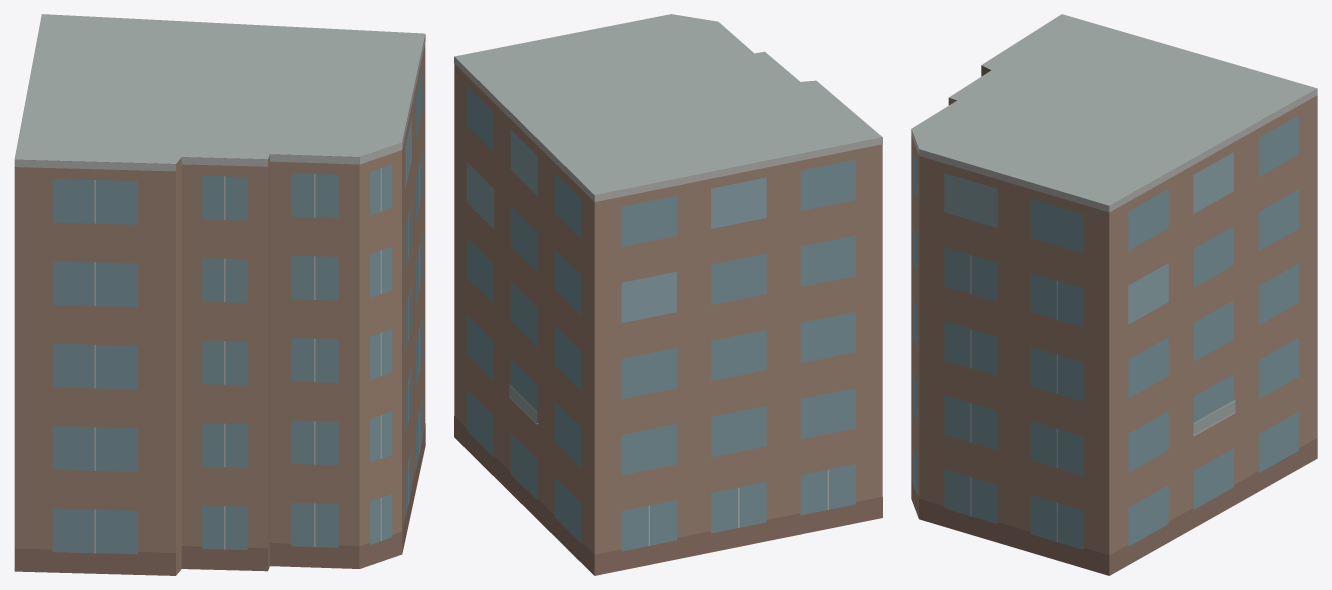
The model's file is survey-upis-32843584.glb.
3 views of the same model, side by side, from view 1: azimuth 30°, elevation 25°; view 2: azimuth 150°, elevation 25°; view 3: azimuth 270°, elevation 25° (orthographic). The views are drawn at different scales.
Parts seen in each view (by area): view 1: survey-upis-32843584.tmp; view 2: survey-upis-32843584.tmp; view 3: survey-upis-32843584.tmp.
Part boxes in pixels (x1=…): survey-upis-32843584.tmp: x1=14, y1=14, x2=425, y2=575; survey-upis-32843584.tmp: x1=454, y1=14, x2=882, y2=575; survey-upis-32843584.tmp: x1=911, y1=14, x2=1317, y2=575.
Bounding box in the file's own units: 14.9 × 13.4 × 13.34.
